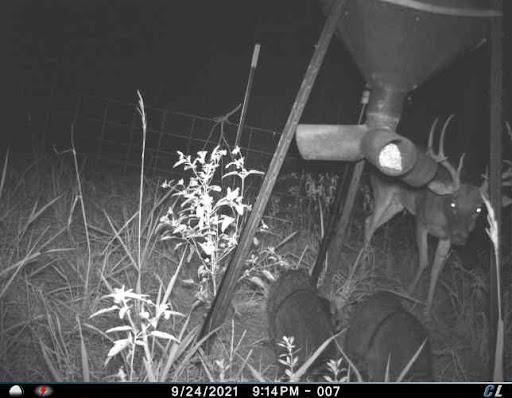Deer: (354, 110, 512, 316)
